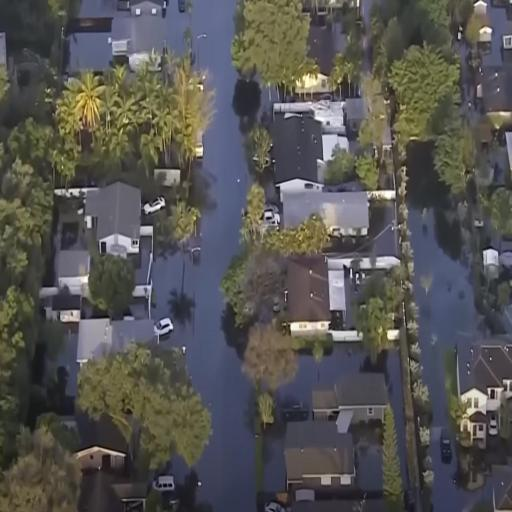flood: (151, 0, 367, 510), (408, 141, 512, 511), (387, 343, 417, 509), (332, 201, 400, 256), (351, 423, 384, 509), (308, 20, 346, 74), (486, 0, 512, 64), (54, 327, 78, 395), (70, 33, 111, 69), (163, 0, 189, 54), (80, 0, 112, 14), (361, 0, 373, 36), (365, 39, 372, 67)
house: (279, 415, 359, 499), (283, 253, 351, 341), (268, 101, 330, 194), (461, 340, 512, 450), (281, 185, 372, 239), (68, 408, 129, 476), (309, 375, 387, 426), (90, 184, 140, 262), (76, 317, 158, 358), (110, 0, 164, 55), (478, 63, 512, 127), (481, 234, 500, 269), (477, 0, 493, 41)
